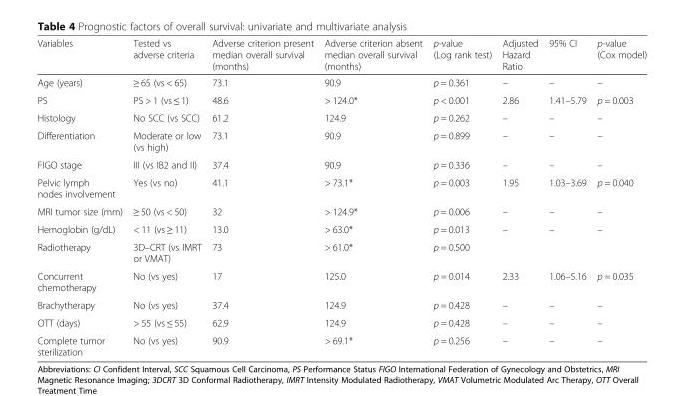table: (36, 37, 646, 357)
table column: (206, 37, 318, 357), (318, 37, 427, 357), (36, 37, 127, 357), (127, 37, 206, 357), (427, 37, 496, 357), (591, 37, 646, 357), (542, 37, 591, 357), (496, 37, 542, 357)
table column header: (36, 37, 646, 73)
table row: (36, 37, 646, 73), (36, 126, 646, 155), (36, 173, 646, 202), (36, 237, 646, 266), (36, 266, 646, 295), (36, 331, 646, 357), (36, 90, 646, 108), (36, 108, 646, 126), (36, 155, 646, 173), (36, 219, 646, 237), (36, 295, 646, 313), (36, 313, 646, 331), (36, 73, 646, 90), (36, 202, 646, 219)
